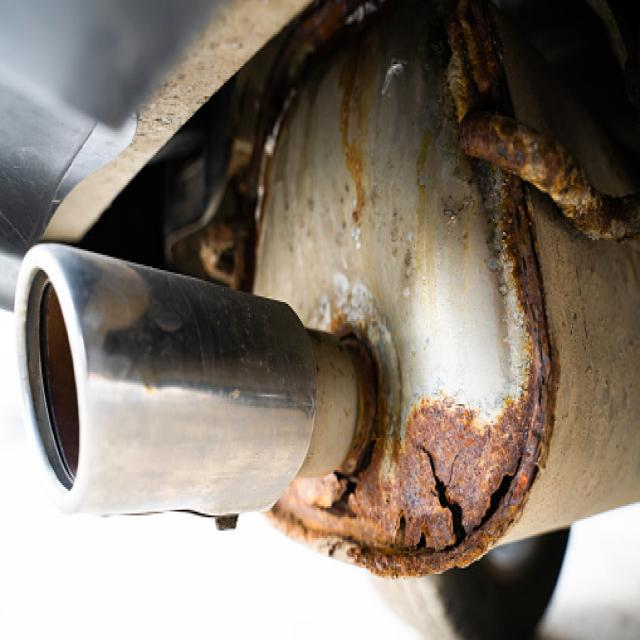corrosion: (331, 374, 550, 576), (501, 221, 555, 403), (547, 160, 640, 240), (458, 121, 535, 169)
